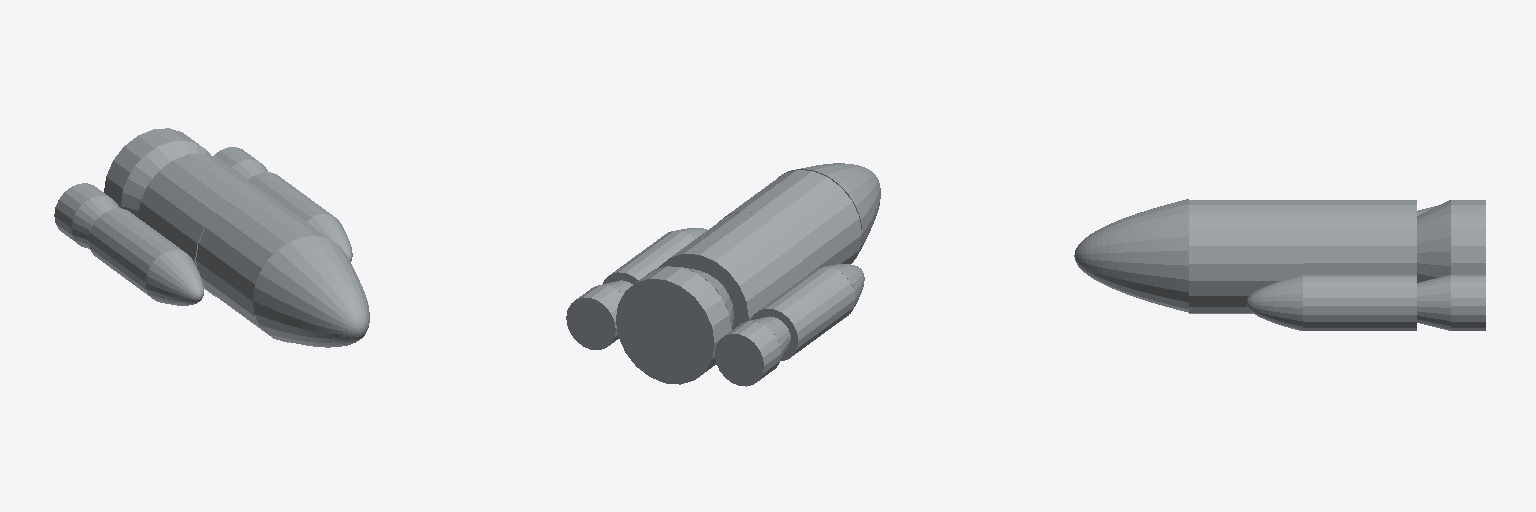
Rendered from nave1.obj.
3 views of the same model, side by side, from view 1: azimuth 30°, elevation 25°; view 2: azimuth 150°, elevation 25°; view 3: azimuth 270°, elevation 25° (orthographic).
Parts seen in each view (by area): view 1: obj_0; view 2: obj_0; view 3: obj_0.
Boxes of the visible parts, x1,y1,x2,y2 form: obj_0: [54, 128, 369, 347]; obj_0: [566, 163, 880, 386]; obj_0: [1074, 199, 1485, 330].
Size of the model in its own units: 40 by 20.18 by 72.